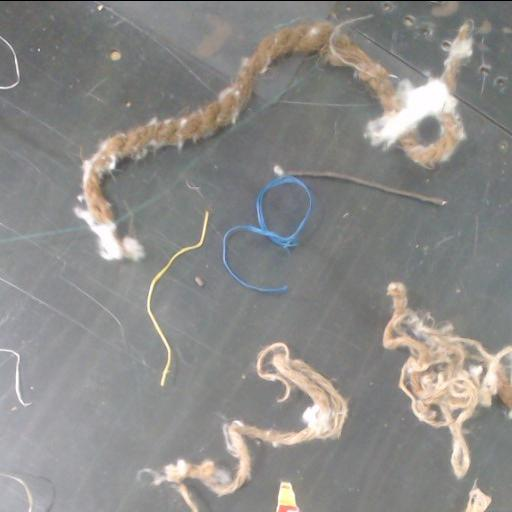conveyor belt: (0, 1, 511, 512)
jute: (75, 21, 471, 259), (154, 343, 348, 512), (383, 282, 511, 477)
packet: (276, 482, 300, 512), (464, 486, 490, 512)
thread: (223, 165, 447, 292), (146, 210, 210, 385), (0, 348, 30, 404), (0, 471, 33, 512), (0, 36, 21, 89)
